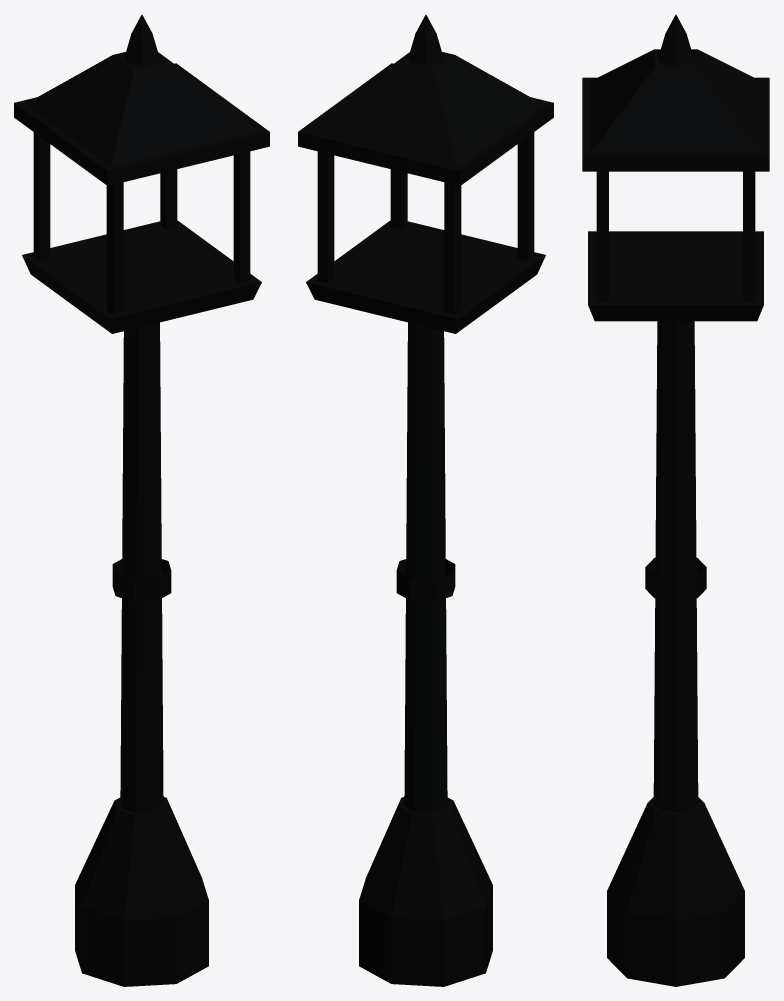
File: lantern_post.glb
The picture shows the model from 3 angles, left to right: view 1: azimuth 30°, elevation 25°; view 2: azimuth 150°, elevation 25°; view 3: azimuth 270°, elevation 25°; orthographic projection.
Visible parts, largest first — view 1: SM_LanternPost; view 2: SM_LanternPost; view 3: SM_LanternPost.
Part boxes in pixels (bbox=[...]): SM_LanternPost: bbox=[14, 14, 269, 986]; SM_LanternPost: bbox=[298, 14, 553, 986]; SM_LanternPost: bbox=[582, 14, 769, 986].
Bounding box in the file's own units: 0.46 × 2.56 × 0.46.
Materials: 1 (1 with a texture image).
